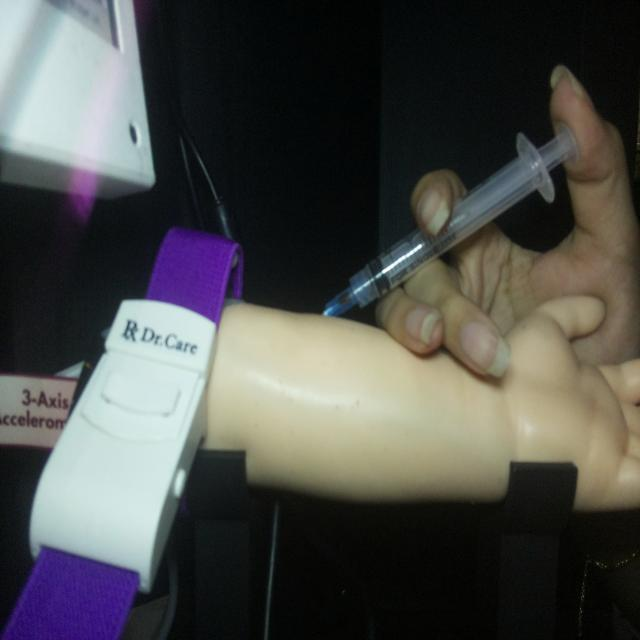26 degrees: (321, 120, 578, 320)
